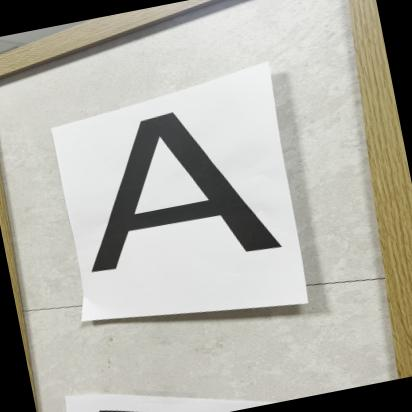seat: (43, 88, 293, 295)
